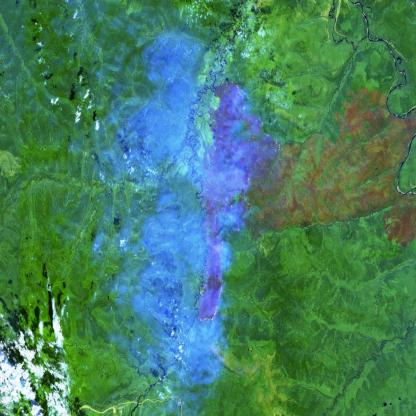fire: (194, 78, 283, 336)
